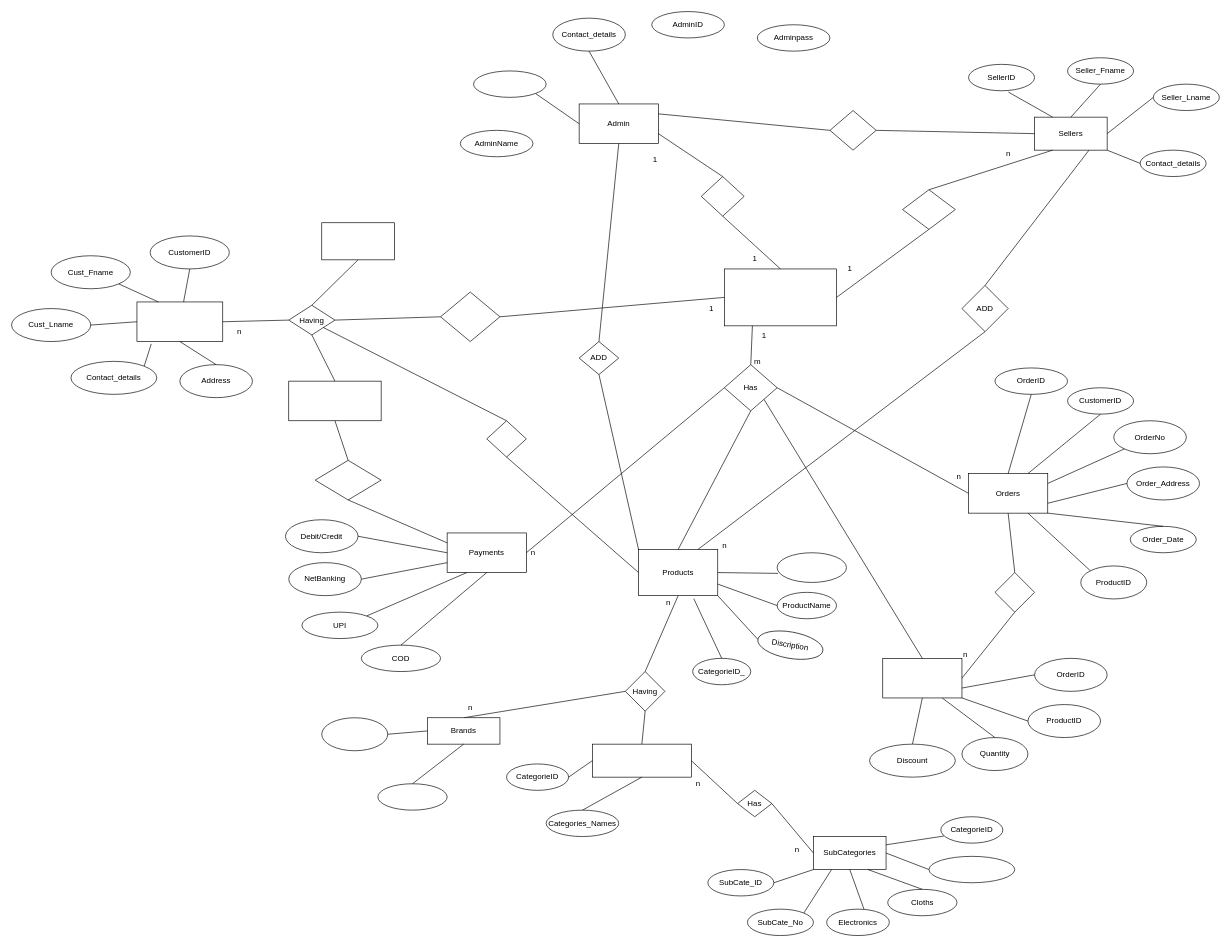
The diagram is 1231 pixels wide and 947 high, and some of its shapes have lost their labels. Here are the shapes that lost their labels. From the top down, the centre of each, then its label:
At point (509, 83): "Admincity".
At point (852, 130): "Connect with".
At point (722, 196): "Create".
At point (928, 209): "Register On".
At point (357, 241): "Normal".
At point (470, 316): "Visit And Reg. On".
At point (780, 297): "EcomStoreWebsite".
At point (179, 321): "Customers".
At point (334, 400): "Premium".
At point (506, 438): "View".
At point (347, 480): "Pay For Subscription".
At point (811, 567): "Product_ID".
At point (1014, 592): "Add on".
At point (922, 678): "Cart".
At point (354, 734): "BrandID".
At point (641, 760): "Catagories".
At point (412, 796): "Brand_Name".
At point (971, 869): "Glocery".
